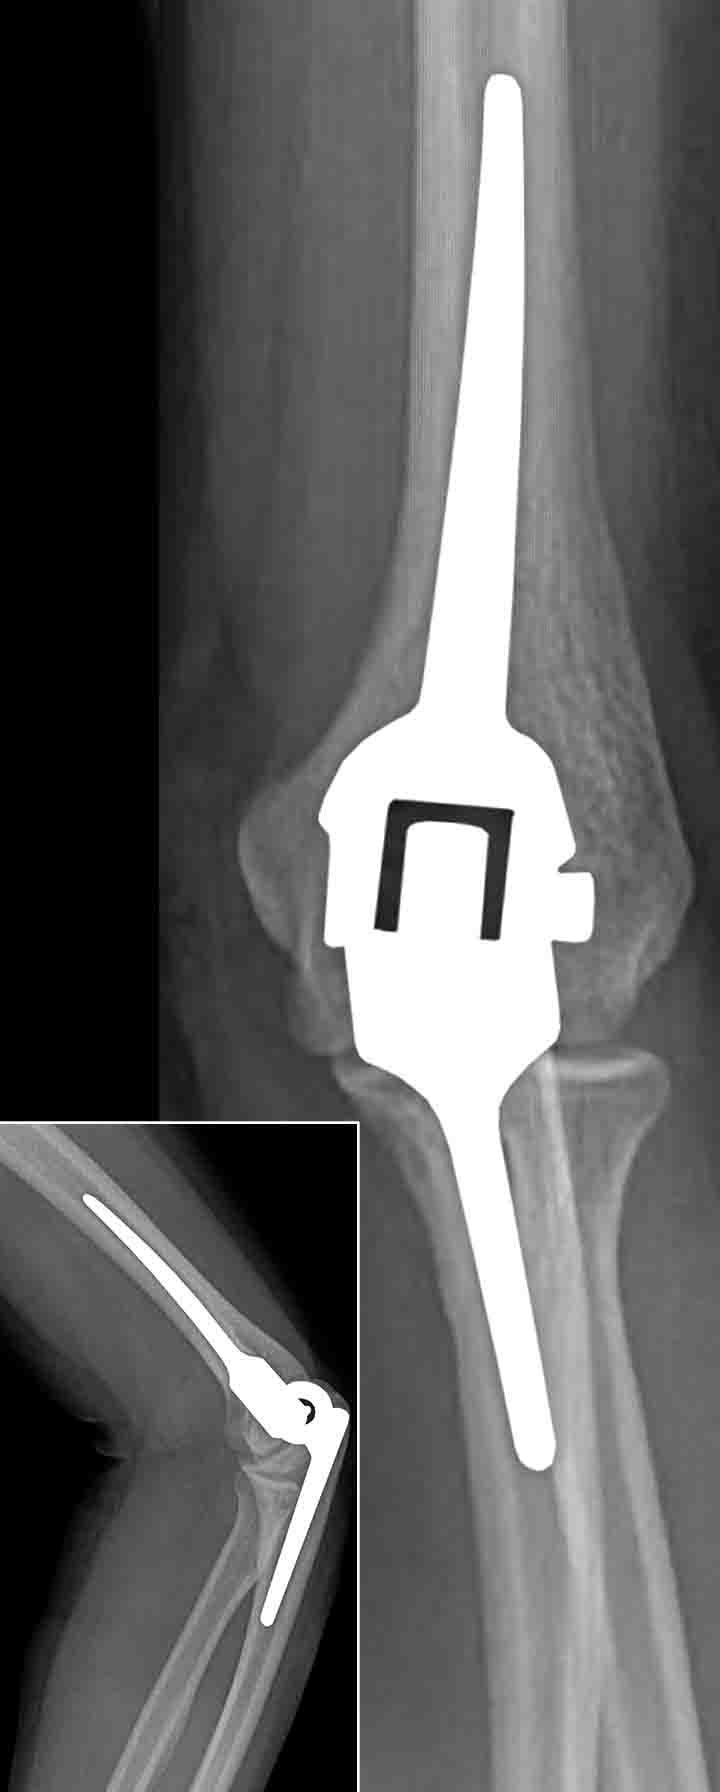Elbow - Osteonics - Stryker: (306, 57, 643, 1354), (61, 1182, 349, 1645)
